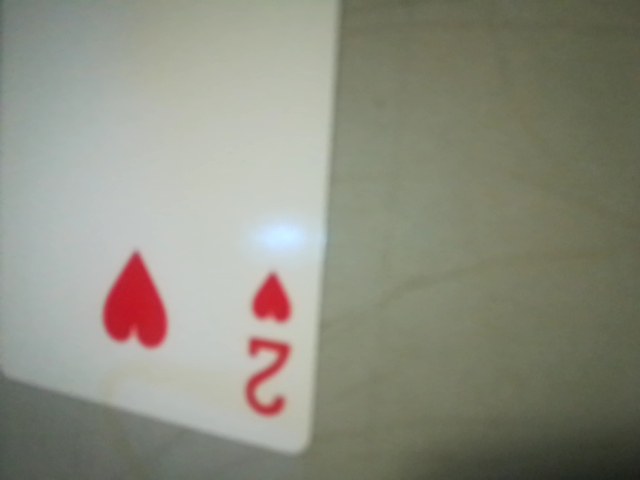hx 2: (228, 252, 314, 436)
